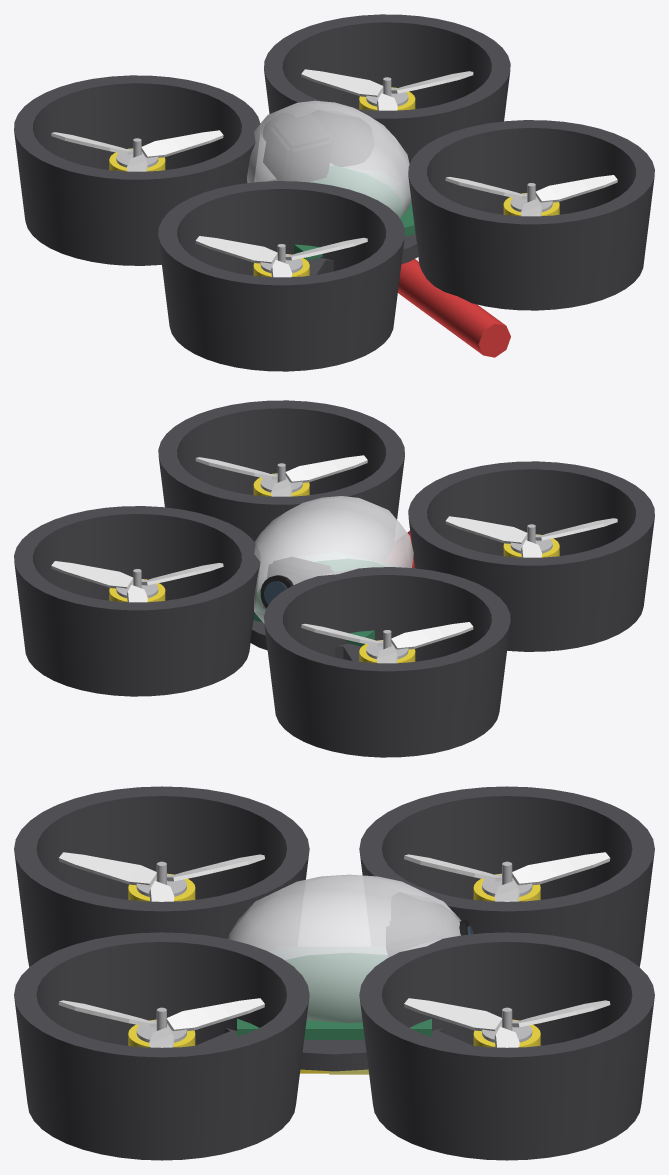
The model's file is whoop65pro.glb.
3 views of the same model, one above another, from view 1: azimuth 30°, elevation 25°; view 2: azimuth 150°, elevation 25°; view 3: azimuth 270°, elevation 25° (orthographic). The views are drawn at different scales.
Visible parts, largest first — view 1: body, fpv_cam, prop_RL, prop_RR, prop_FR, prop_FL; view 2: body, prop_FL, prop_FR, prop_RR, prop_RL, fpv_cam; view 3: body, prop_FR, prop_RR, prop_FL, prop_RL, fpv_cam.
Boxes of the visible parts, box(x1,y1,x2,y2) form: body: box(14, 14, 654, 371); fpv_cam: box(263, 111, 333, 181); prop_RL: box(195, 236, 367, 277); prop_RR: box(445, 175, 617, 216); prop_FR: box(301, 69, 473, 110); prop_FL: box(51, 130, 223, 171); body: box(14, 400, 654, 757); prop_FL: box(301, 622, 473, 663); prop_FR: box(51, 561, 223, 602); prop_RR: box(195, 455, 367, 496); prop_RL: box(445, 516, 617, 557); fpv_cam: box(260, 557, 333, 609); body: box(14, 786, 654, 1160); prop_FR: box(404, 998, 610, 1047); prop_RR: box(58, 998, 264, 1047); prop_FL: box(404, 852, 610, 901); prop_RL: box(58, 852, 264, 901); fpv_cam: box(386, 910, 473, 956).
Size of the model in its own units: 0.0854 by 0.0272 by 0.0854.
